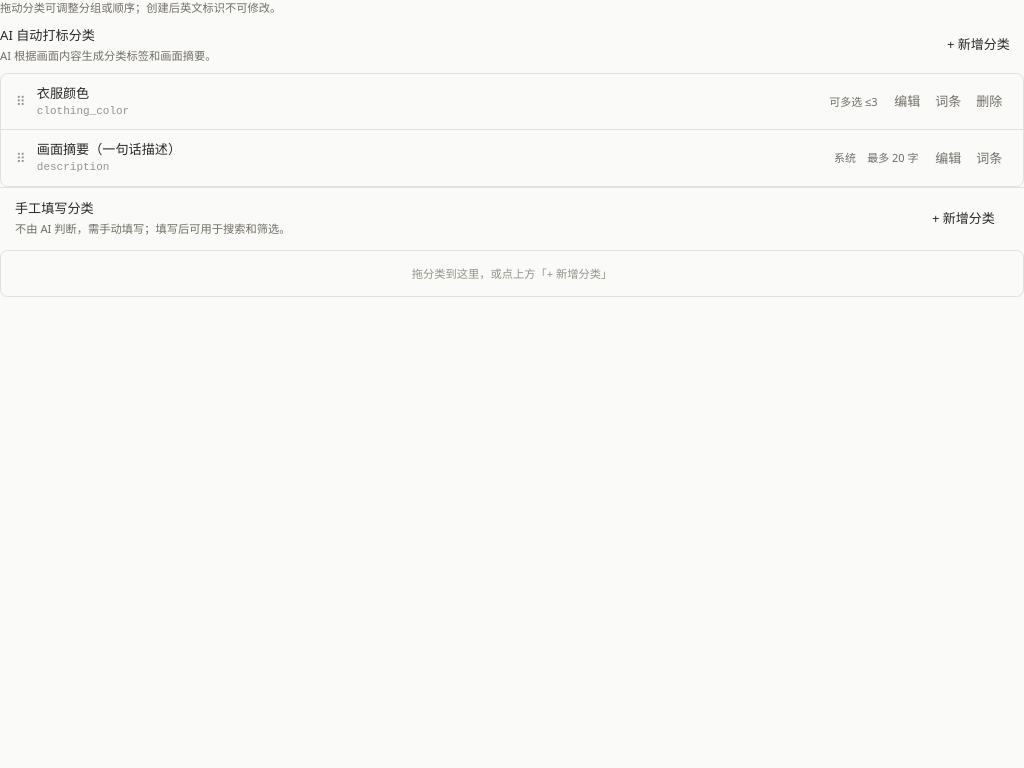
Scenario: W4 facetManagePanel_two_groups › 新建弹窗：用户可改自动 key；显式清空自己输入的标识才报错
Check: the text "衣服颜色" is shown, box x1=37 y1=84 x2=89 y2=102
Click the button "+ 新增分类" in the row of "AI 根据画面内容生成分类标签和画面摘要。" at (978,44), box x1=933 y1=26 x2=1023 y2=62
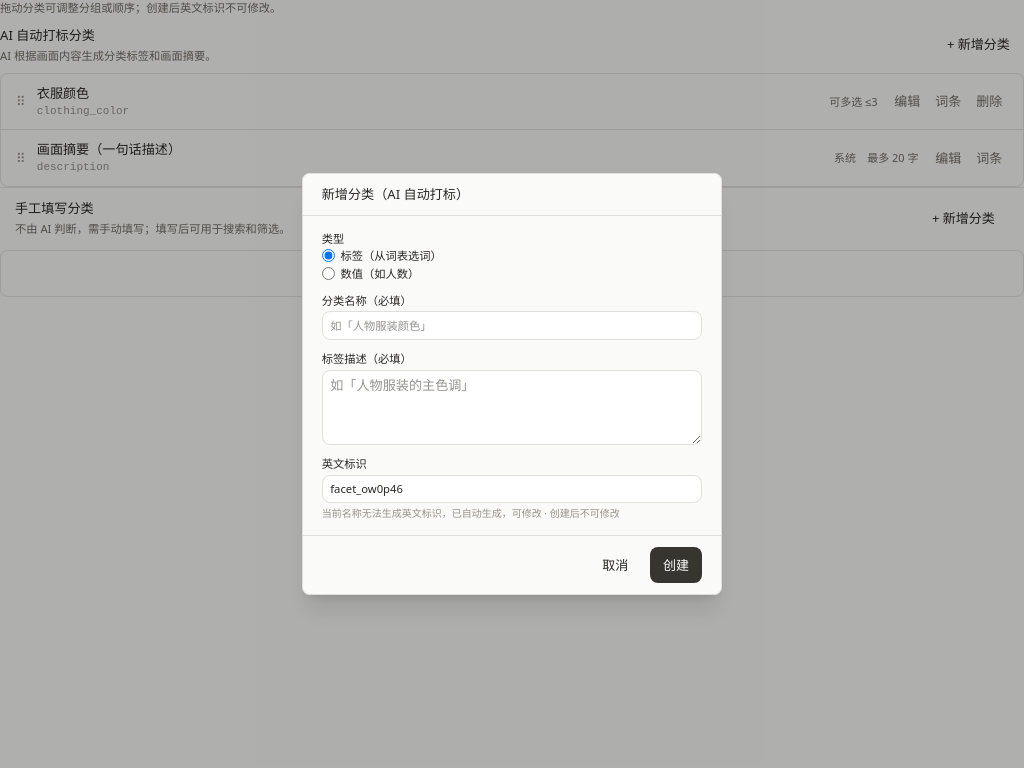
Type "人物服装颜色" into the field labelled "分类名称" at (512,326), box x1=322 y1=312 x2=702 y2=340
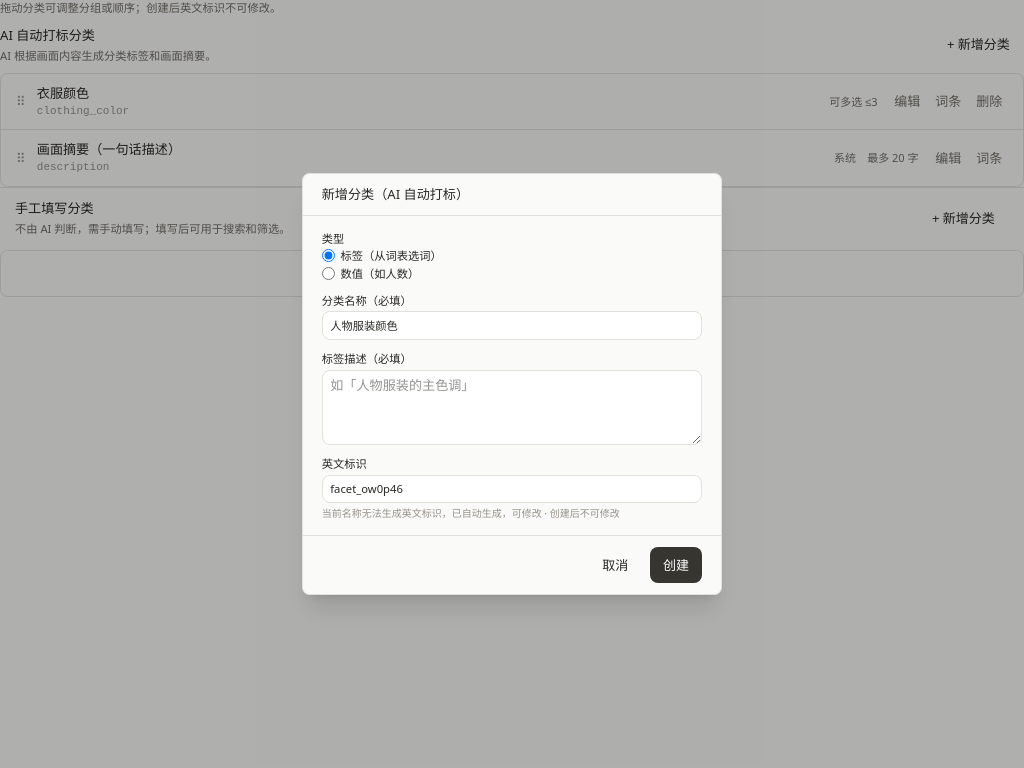
Type "人物服装的主色调" into the text box labelled "标签描述" at (512,407), box x1=322 y1=370 x2=702 y2=445
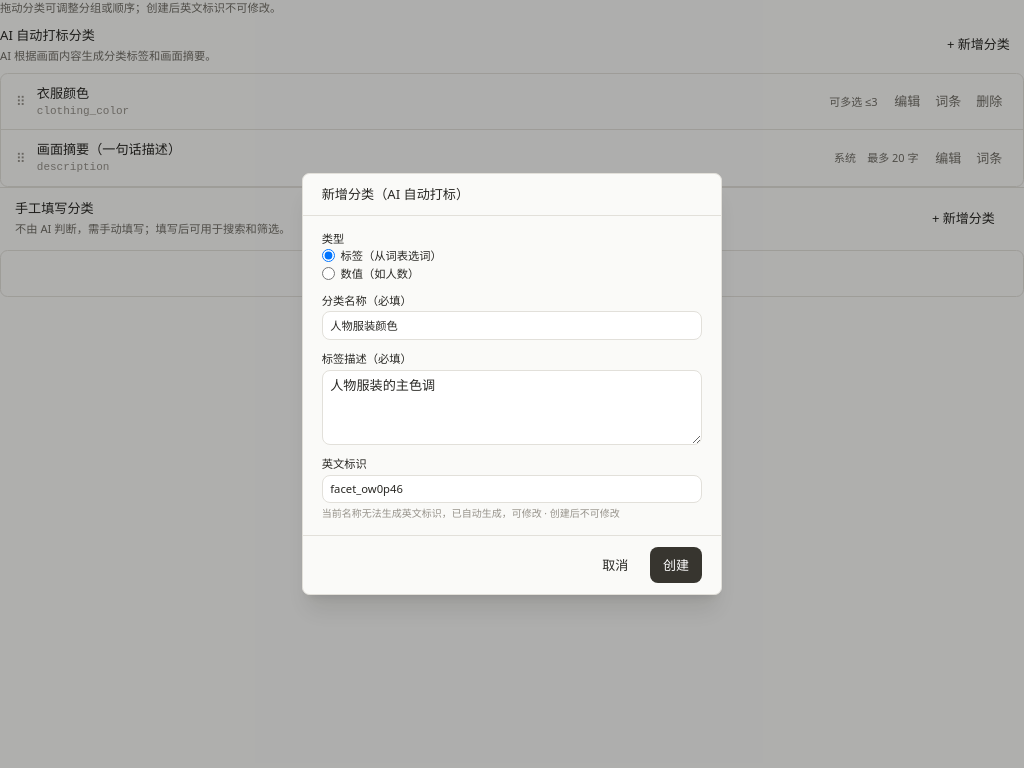
# 覆盖自动 key
Replace the text in the field labelled "英文标识" with "clothing_color" at (512,489), box x1=322 y1=475 x2=702 y2=503
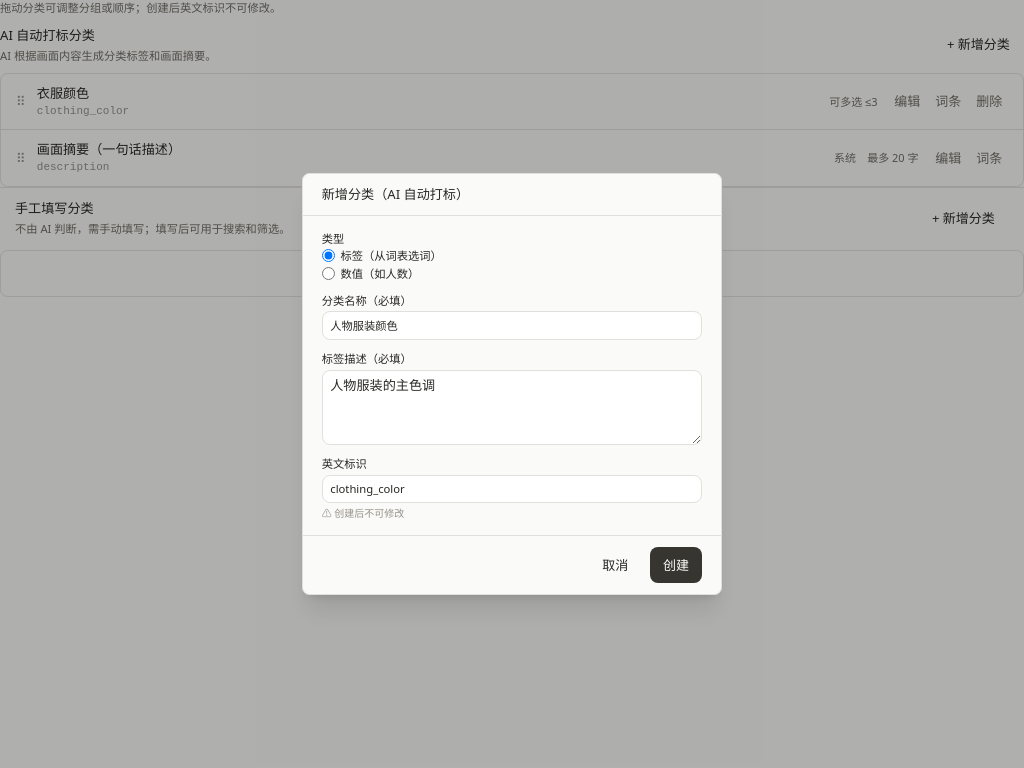
# 又清空 → 明确报错
Clear the field labelled "英文标识" at (512,489), box x1=322 y1=475 x2=702 y2=503
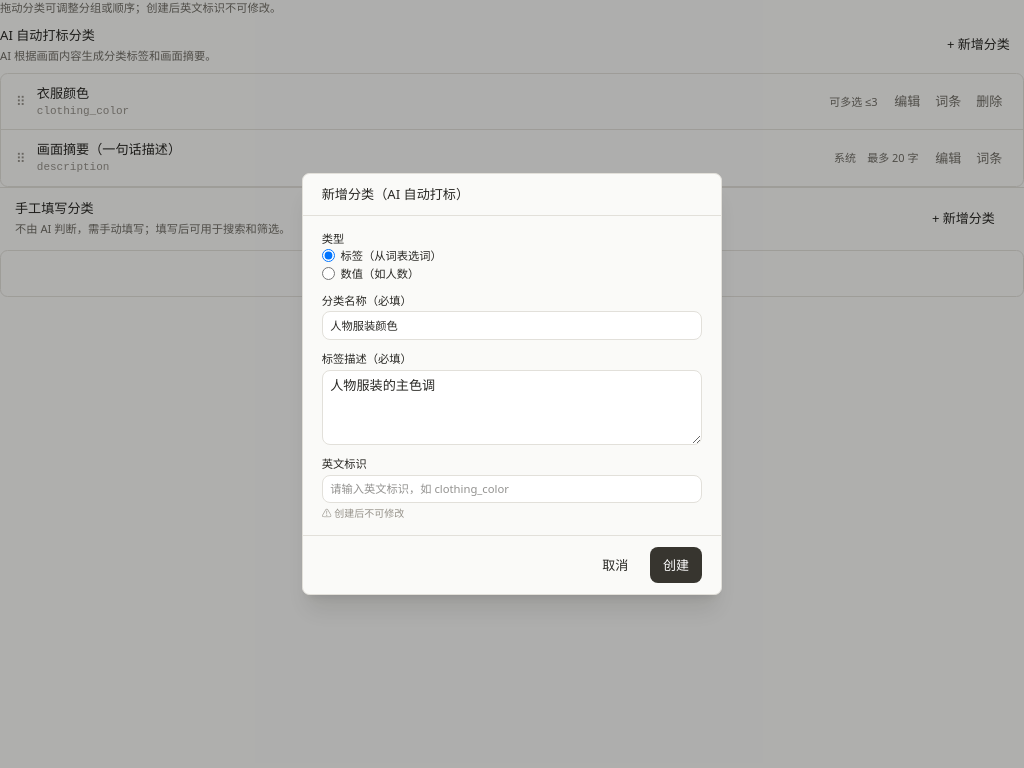
Click the button "创建" at (676,565), box x1=650 y1=547 x2=702 y2=583
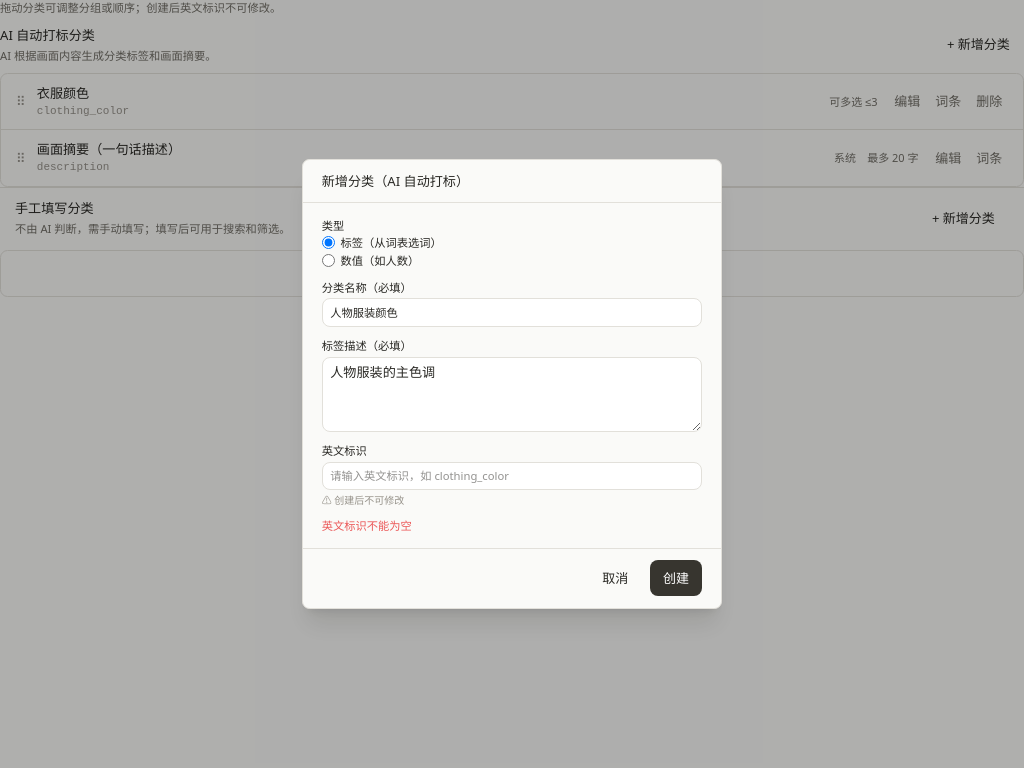
Check: the text "英文标识不能为空" is shown, box x1=322 y1=518 x2=412 y2=533
